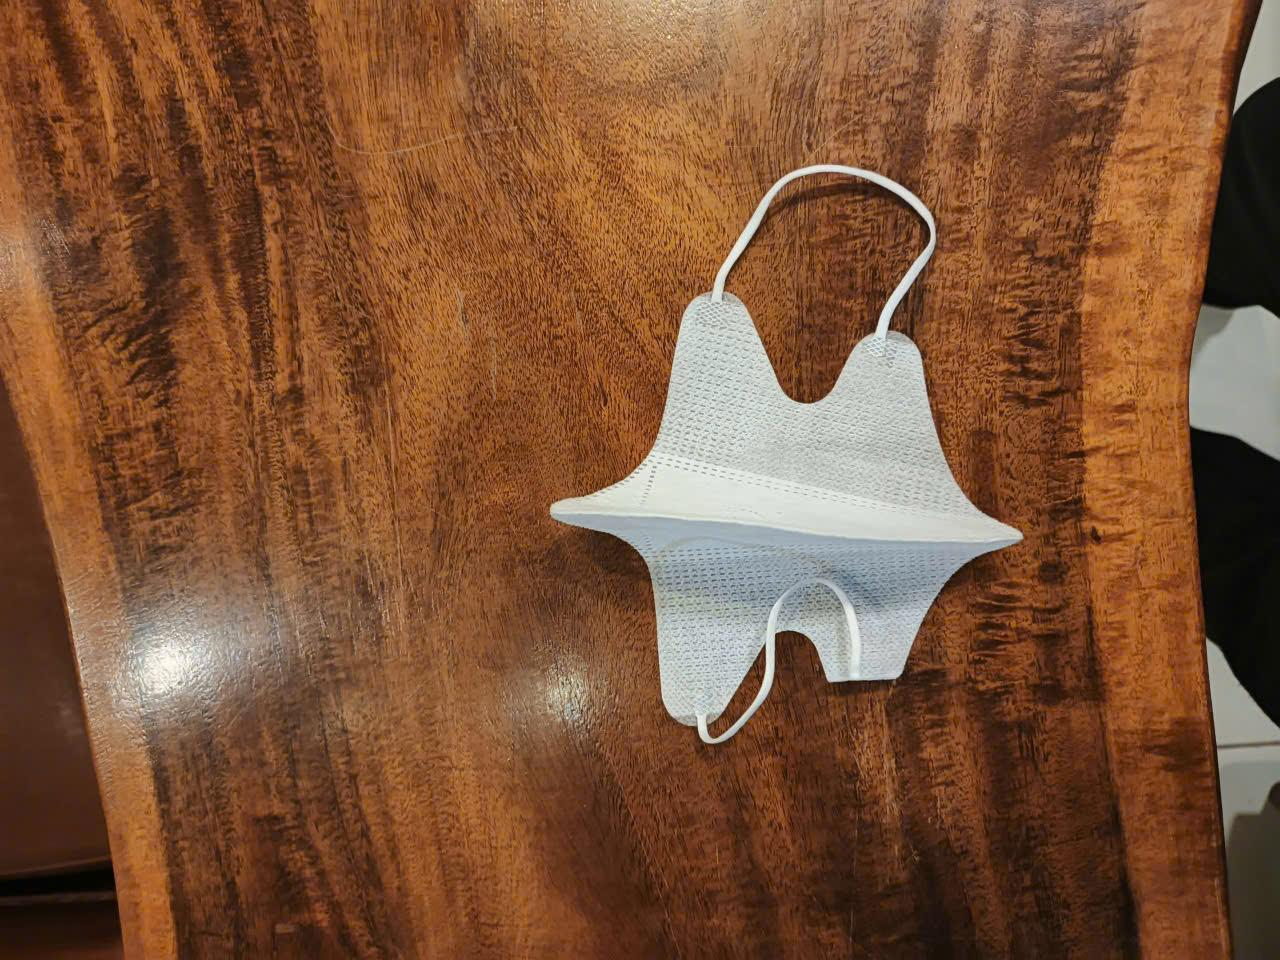Con lai: (552, 162, 1026, 746)
